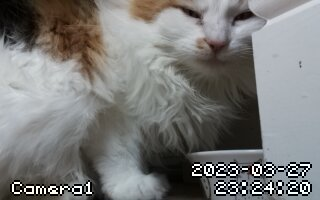clara: (6, 1, 255, 195)
